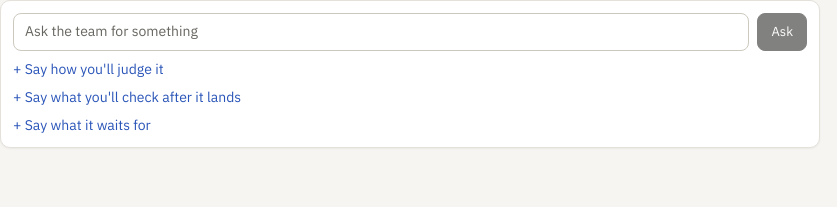
Test case: groups unfinished tasks by project, removes choices, and submits canonical ids
Step 1. Type "Use library" into the field named "What do you want?" → (381, 32), box [13,13,750,51]
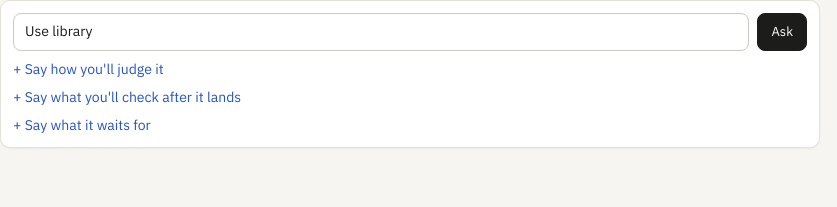
Step 2. Click the button "+ Say what it waits for" → (82, 125), box [13,115,151,136]
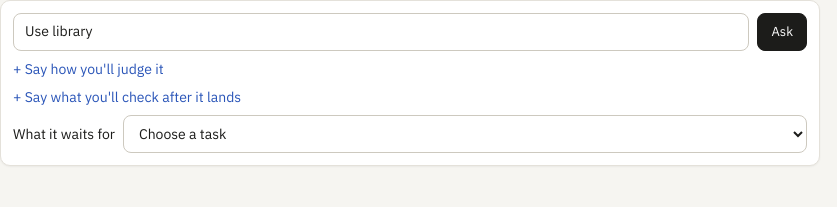
Step 3. Select "LIB-11 Publish" in the dropdown labelled "What it waits for" → (465, 134), box [123,115,807,153]
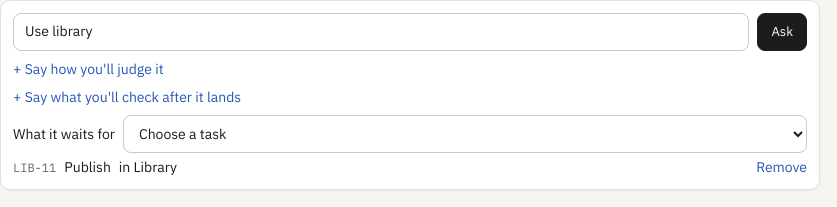
Expected: the text "in Library" is shown, [119,157,177,178]
Step 4. Click the button with aria-label "Remove “Publish” from waits for" → (782, 167), box [756,157,807,178]
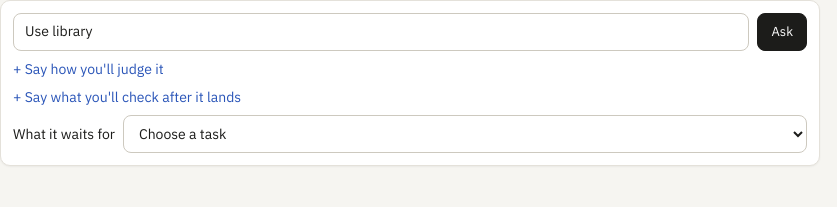
Expected: the text "in Library" is gone
Step 5. Select "LIB-11 Publish" in the dropdown labelled "What it waits for" → (465, 134), box [123,115,807,153]
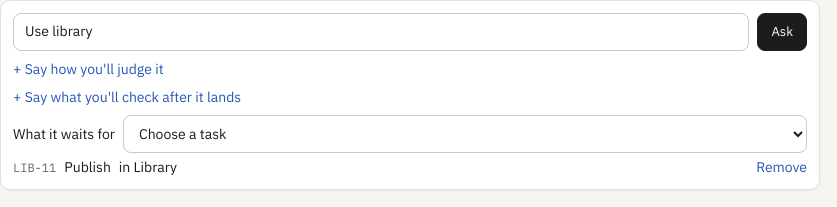
Step 6. Click the button "Ask" → (782, 32), box [758,13,807,51]
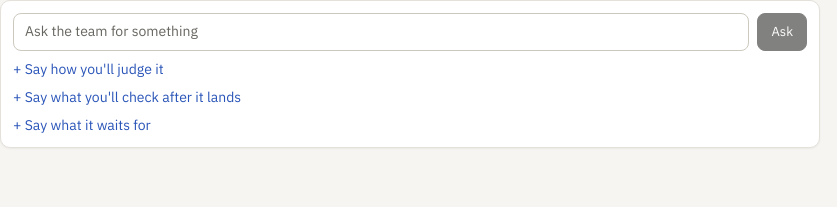
Expected: the text "in Library" is gone
